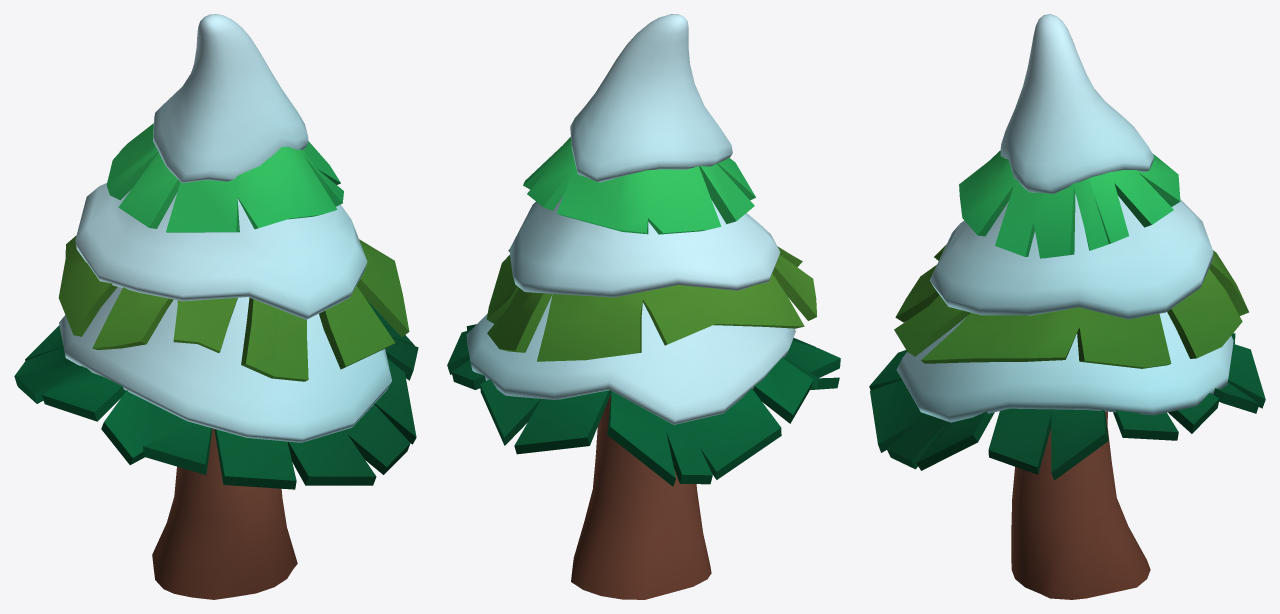
Rendered from ArbolNieve3_V3.fbx.
3 renders of one model, left to right at view 1: azimuth 30°, elevation 25°; view 2: azimuth 150°, elevation 25°; view 3: azimuth 270°, elevation 25°, orthographic. The views are drawn at different scales.
Visible parts, largest first — view 1: Arbol, Nieve; view 2: Arbol, Nieve; view 3: Arbol, Nieve.
Part boxes in pixels (x1,y1,x2,y2): Arbol: (14,123,418,599); Nieve: (59,14,391,442); Arbol: (447,137,840,599); Nieve: (466,14,795,424); Arbol: (869,150,1265,599); Nieve: (896,14,1233,422).
Bounding box in the file's own units: 4.07 × 6.32 × 4.18.
